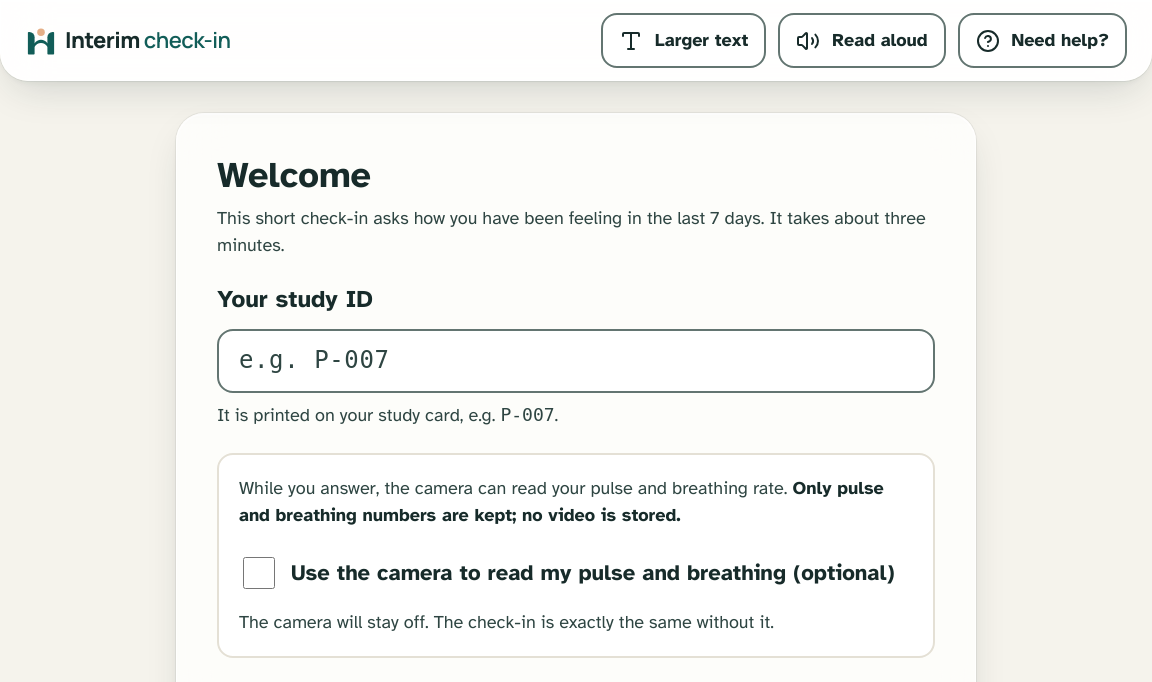
Test: kiosk phase 2 › Need help? shows a calm message to ask the staff member
This screenshot has width=1152, height=682.
Check: the field labelled "Your study ID" is shown, box [217,329,935,393]
Click the button "Need help?" at {"x": 1042, "y": 40}, box [958,13,1127,68]
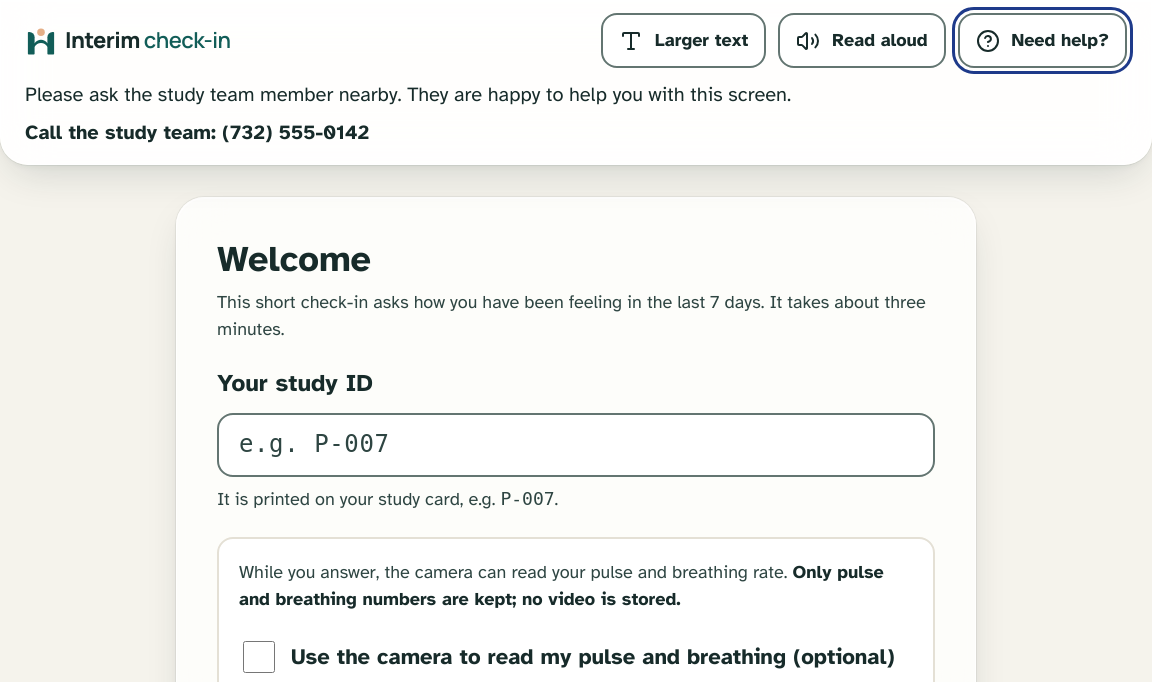
Check: the text "Please ask the study team member nearby. They are happy to help you with this screen." is shown, box [25,82,791,107]
